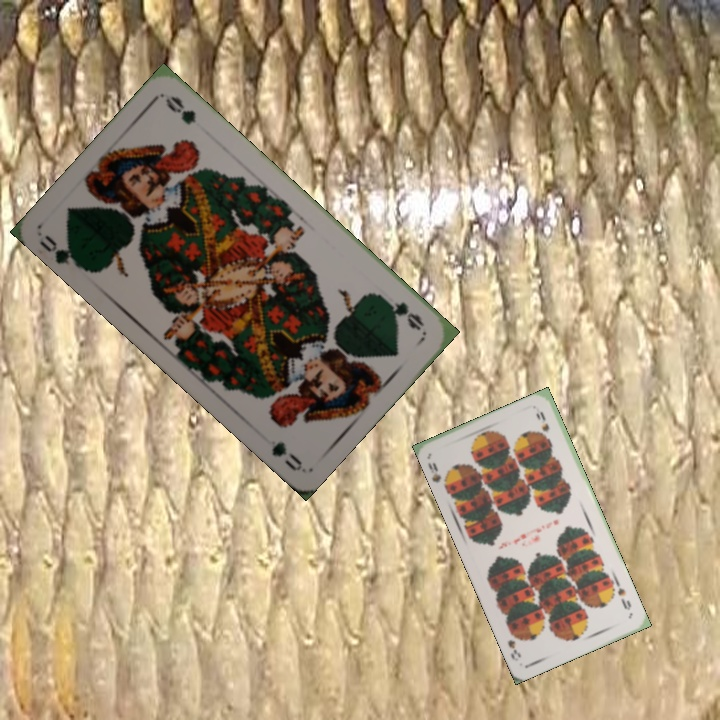GO: (35, 231, 88, 273), (377, 292, 427, 333)
S9: (424, 458, 453, 492), (613, 584, 634, 613)
